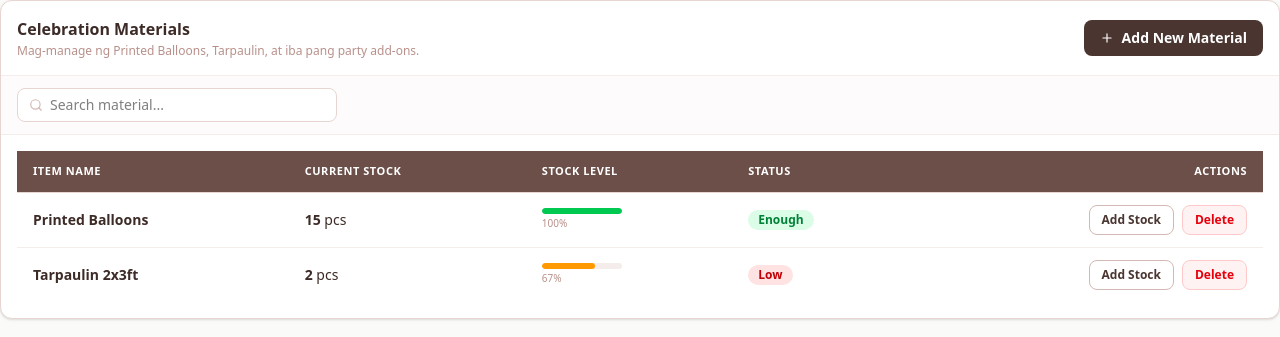
Test case: CelebrationTab Component › should filter the list to only matching items when a search query is entered
Type "Balloons" into the field with placeholder "Search material..." at (177, 105), box [17, 88, 337, 122]
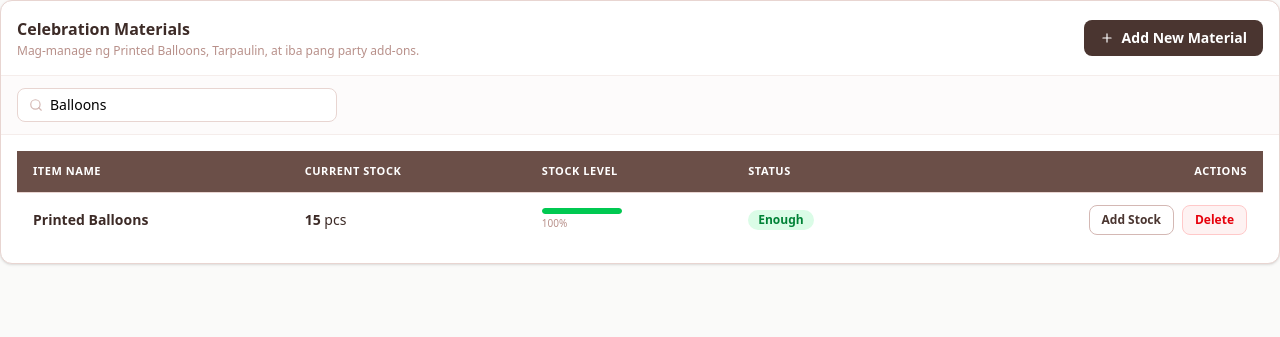
Expected: the text "Tarpaulin 2x3ft" is gone
